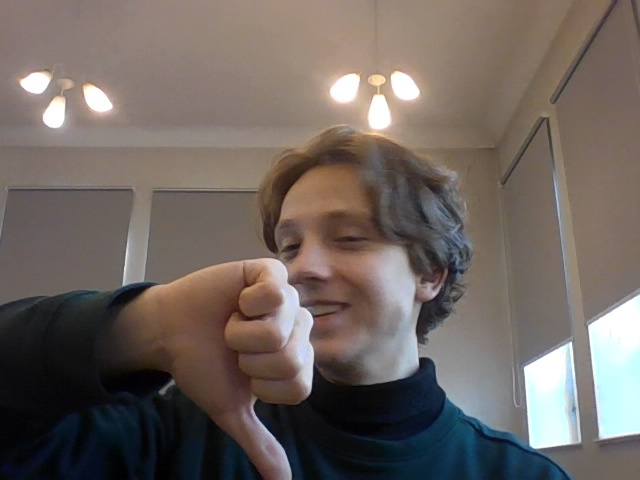no: (157, 248, 343, 480)
